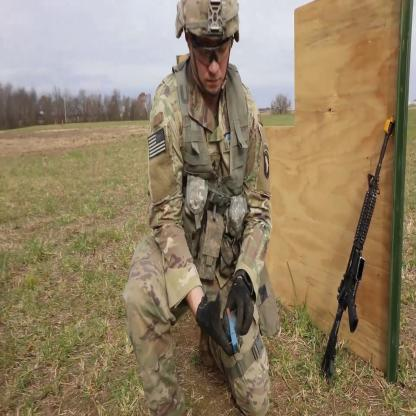Grenade: (223, 307, 243, 354)
Gun: (321, 116, 396, 380)
